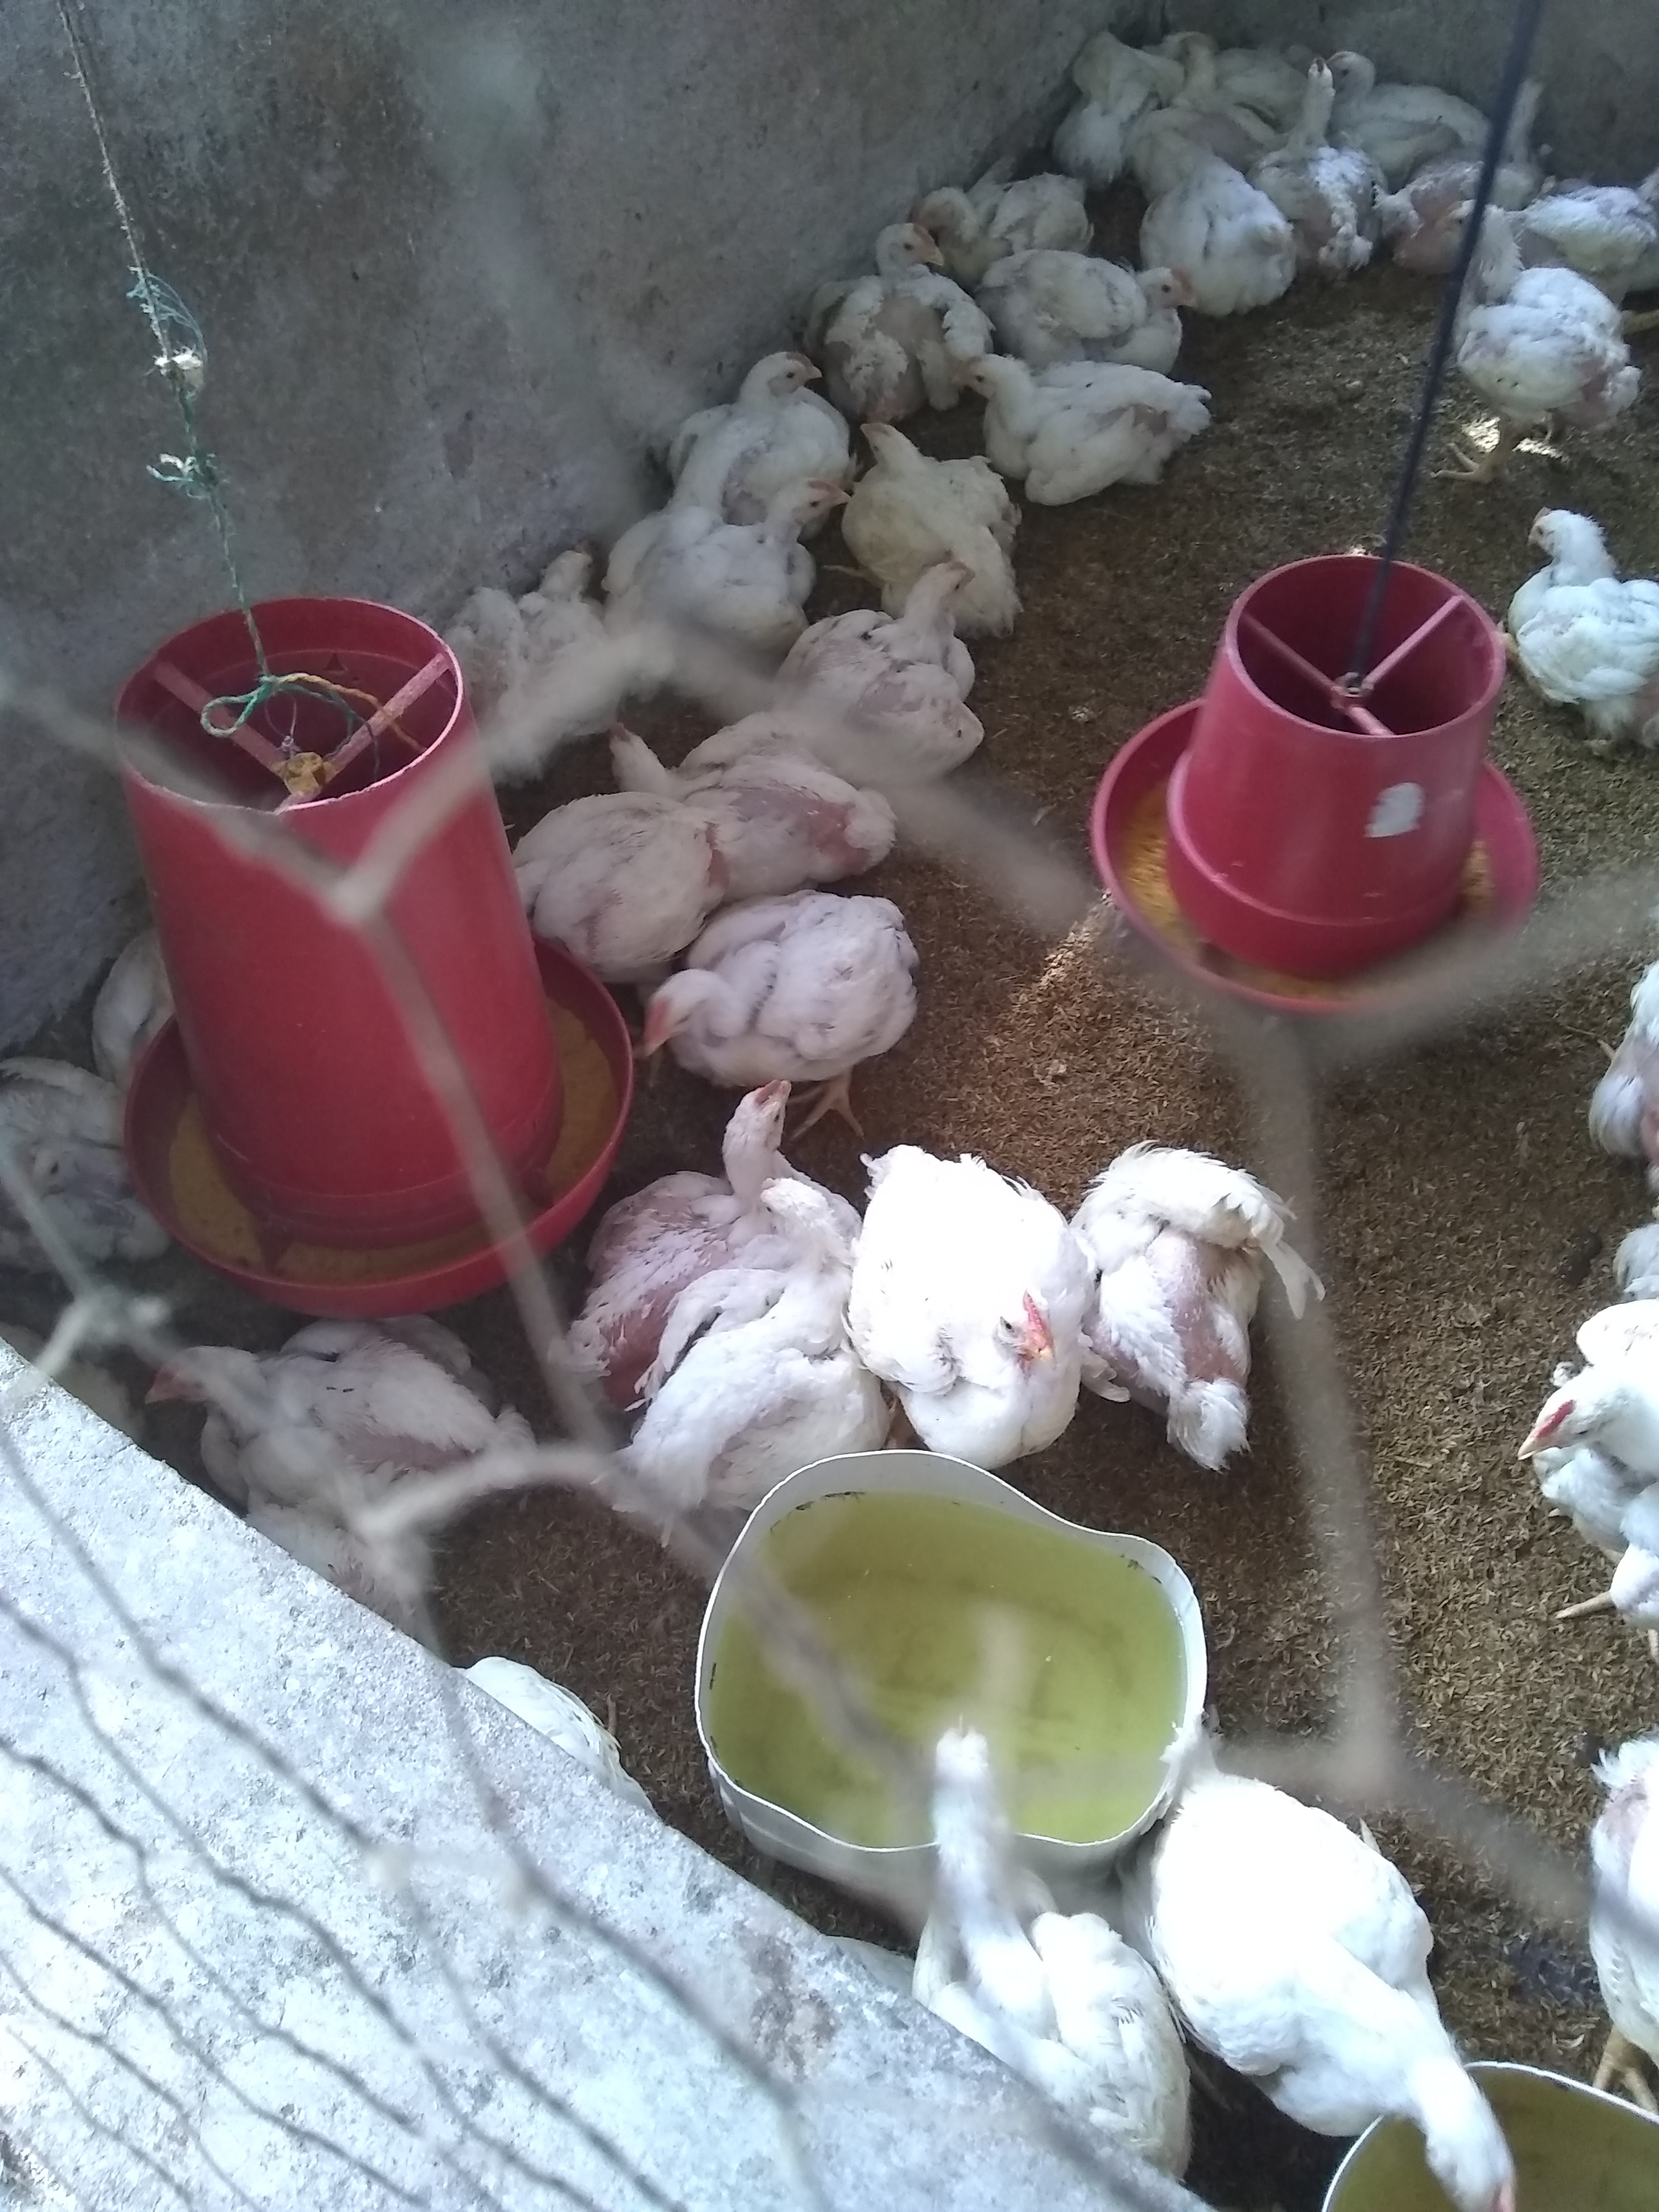Pollos: (1180, 1757, 1521, 2212), (864, 1143, 1107, 1456), (911, 1721, 1147, 2027), (622, 892, 911, 1085), (127, 1338, 491, 1479), (622, 1076, 810, 1334), (584, 719, 897, 864), (1455, 200, 1635, 435), (636, 472, 856, 644), (1506, 1305, 1659, 1545), (1511, 510, 1659, 730), (945, 347, 1188, 479), (0, 1054, 127, 1256), (1269, 57, 1391, 246), (845, 559, 974, 726), (845, 411, 972, 556), (843, 214, 978, 350), (1030, 256, 1209, 357), (695, 340, 836, 465), (1164, 138, 1293, 260), (915, 171, 1089, 239)
